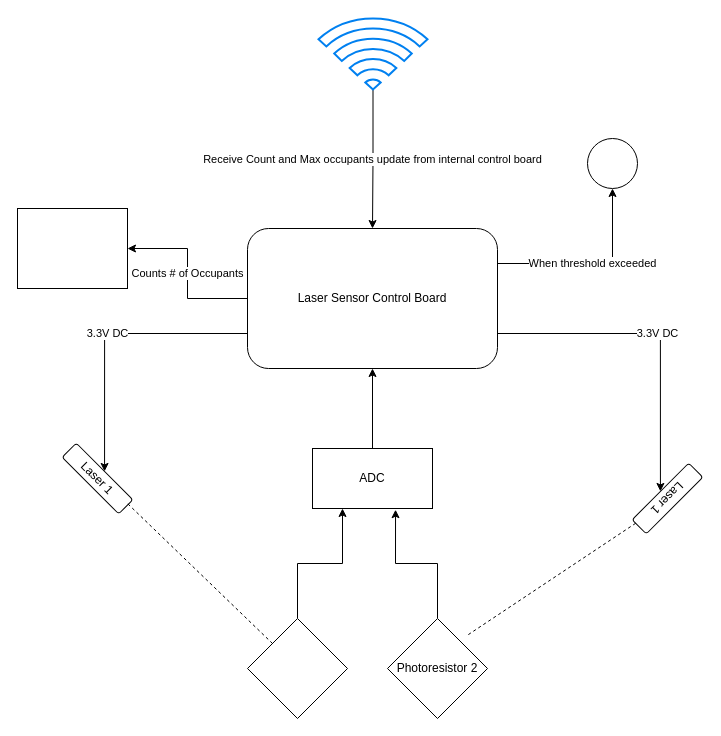
Some shapes in this 721 by 736 pixel diagram are drawn without their labels. The shapes that lost their labels are listed below. From the top down, each one's centre as x and y in pixels, then its label:
At point 612,163: "Red LED".
At point 72,248: "7-Segemnt Display".
At point 297,668: "Photoresistor 1".
